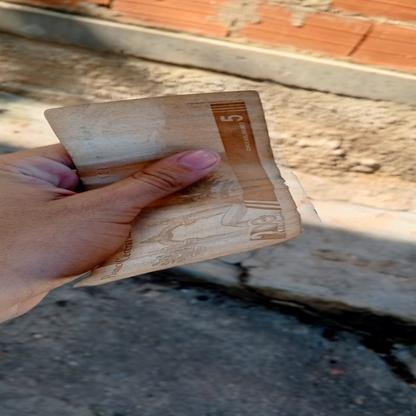five-back-vef: (44, 90, 302, 288)
